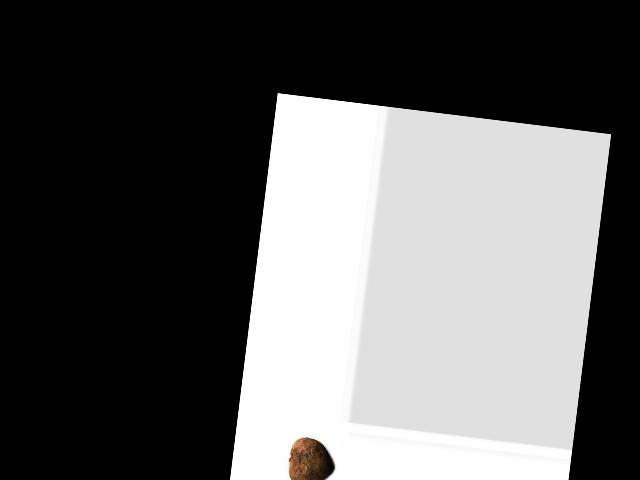beet: (286, 435, 337, 480)
